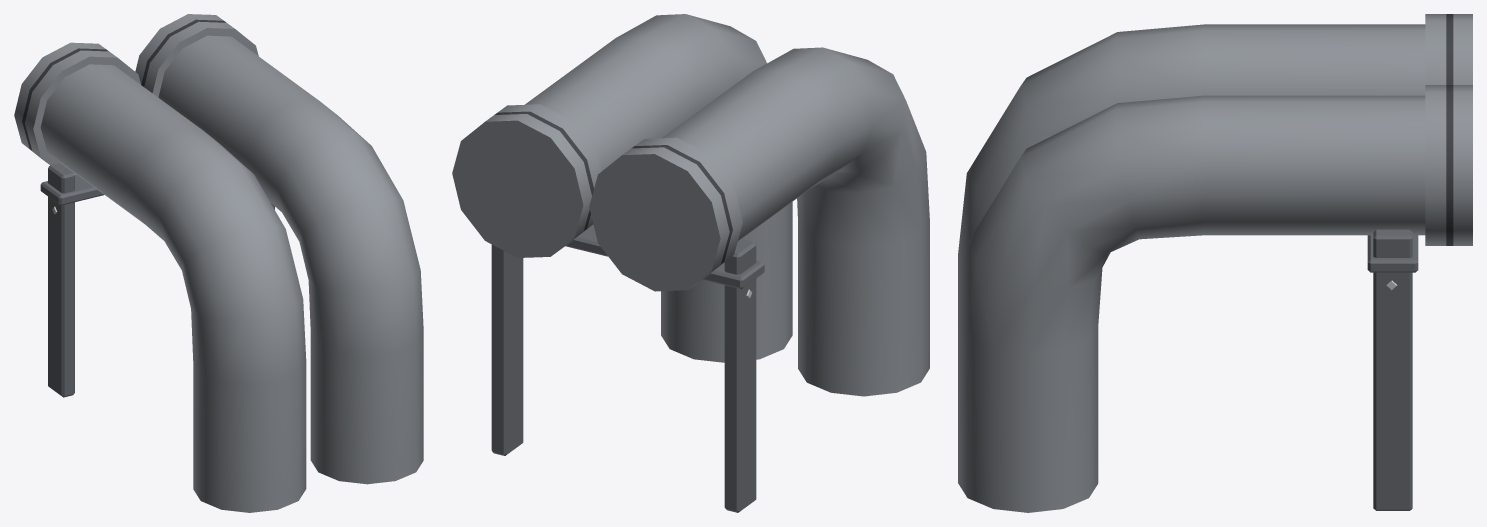
Rendered from SM_Pipe_3.fbx.
3 views of the same model, side by side, from view 1: azimuth 30°, elevation 25°; view 2: azimuth 150°, elevation 25°; view 3: azimuth 270°, elevation 25° (orthographic). The views are drawn at different scales.
Parts seen in each view (by area): view 1: SM_Pipe_3_LOD0; view 2: SM_Pipe_3_LOD0; view 3: SM_Pipe_3_LOD0.
Part boxes in pixels (x1,y1,x2,y2): SM_Pipe_3_LOD0: [14, 14, 423, 512]; SM_Pipe_3_LOD0: [452, 14, 929, 512]; SM_Pipe_3_LOD0: [958, 14, 1472, 512].
Size of the model in its own units: 188 by 294 by 246.
1 material, 1 textured.
